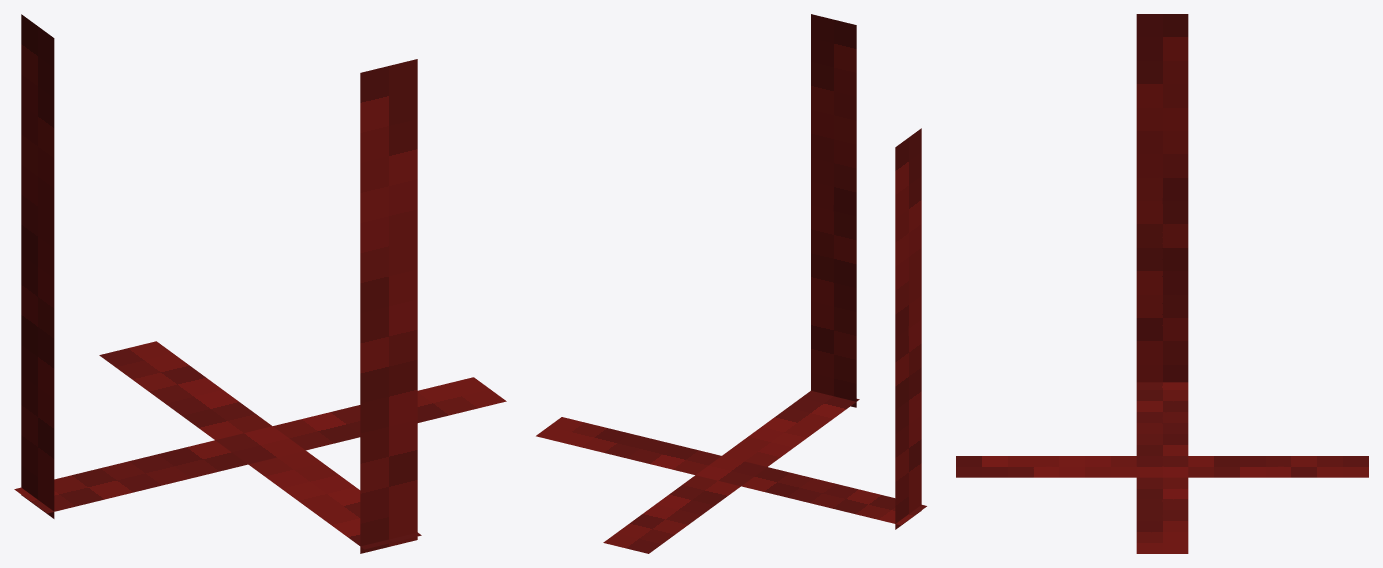
File: dust_1221.gltf
3 views of the same model, side by side, from view 1: azimuth 30°, elevation 25°; view 2: azimuth 150°, elevation 25°; view 3: azimuth 270°, elevation 25° (orthographic). The views are drawn at different scales.
Visible parts, largest first — view 1: dust_1221; view 2: dust_1221; view 3: dust_1221.
Boxes of the visible parts, box(x1,y1,x2,y2) form: dust_1221: box(14, 14, 506, 553); dust_1221: box(536, 14, 926, 553); dust_1221: box(956, 14, 1368, 553).
Size of the model in its own units: 1 by 1 by 1.
1 material, 1 textured.
